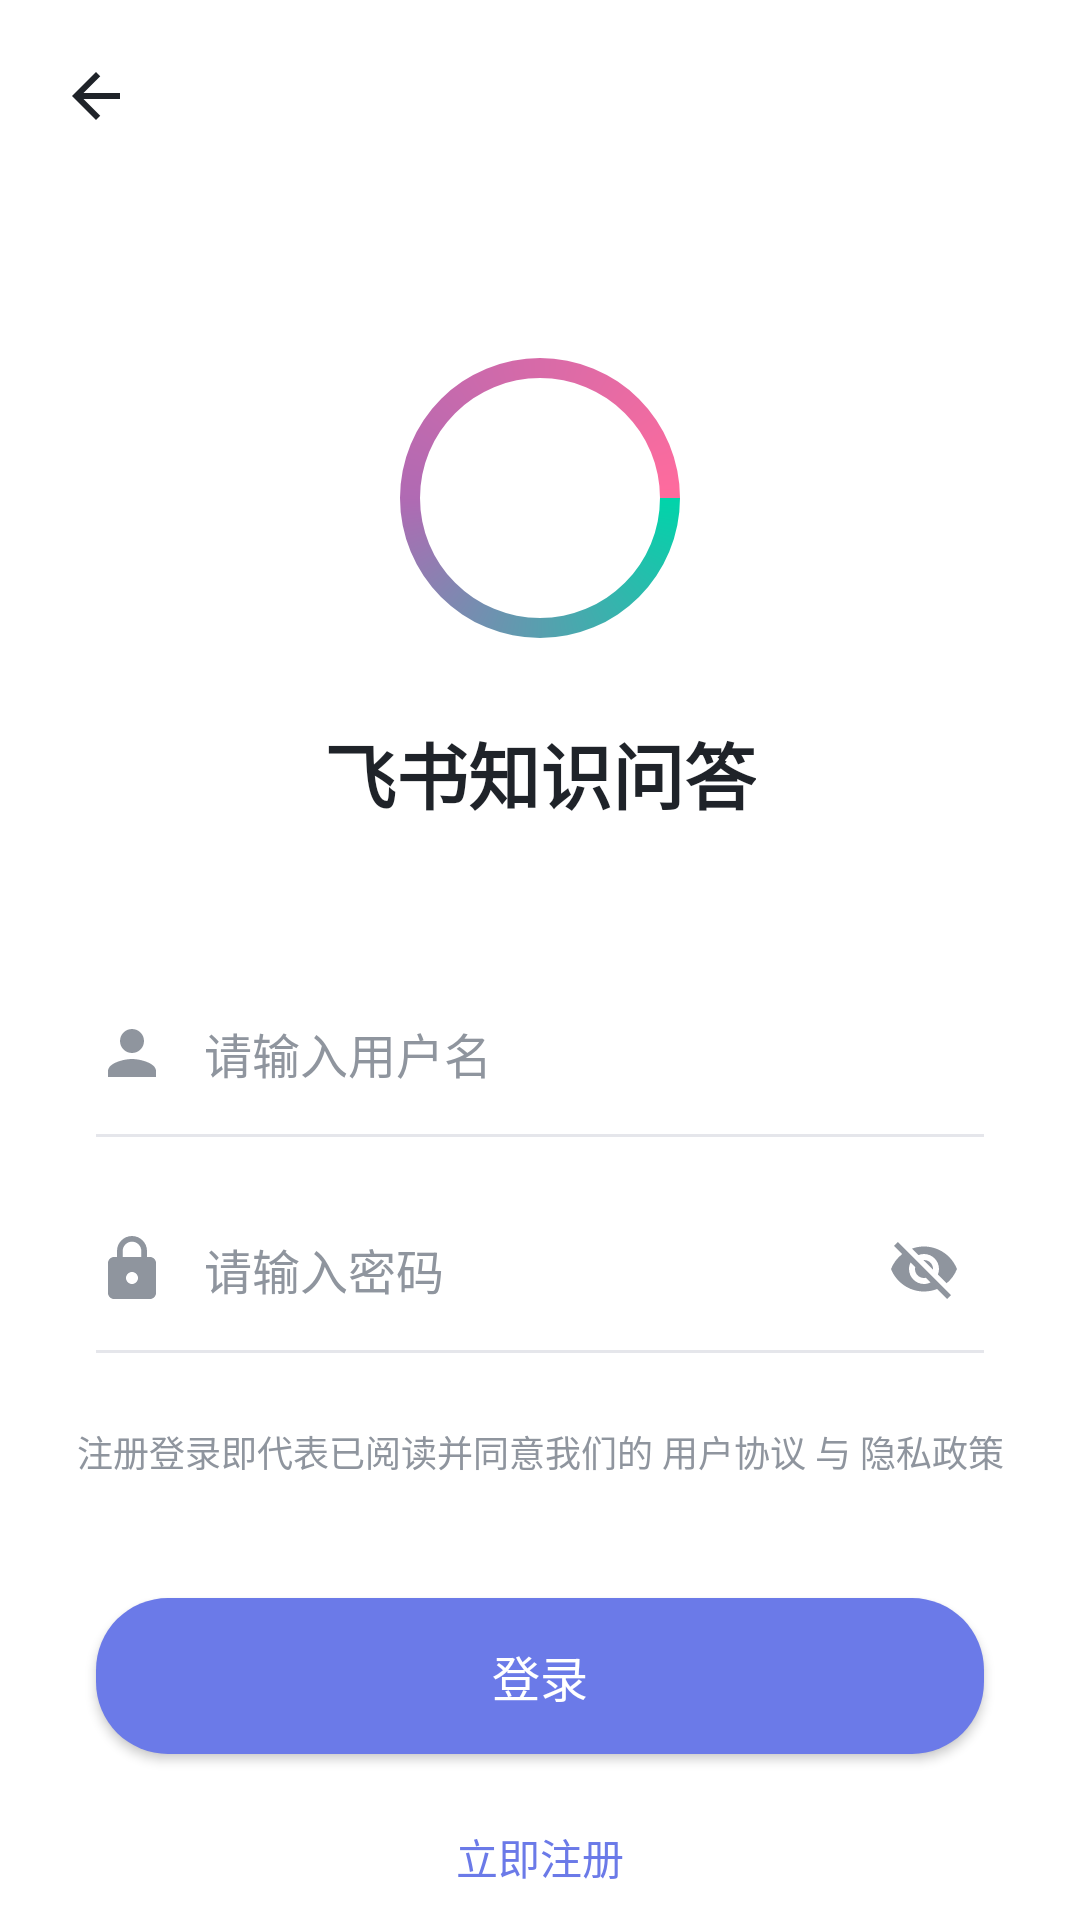

Screen size 1080x1920. Icon name, then its box in pixels as [x1, y1, x2, y2]:
显示密码: [891, 1242, 957, 1299]
返回: [72, 72, 120, 120]
